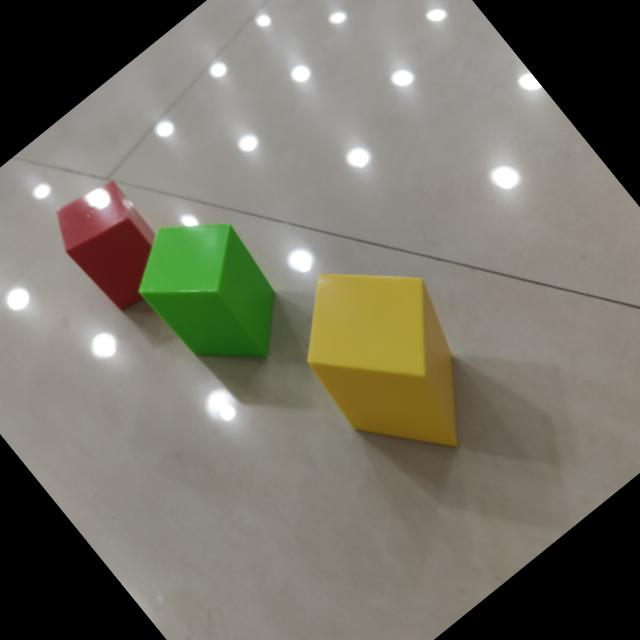green: (139, 223, 277, 362)
red: (58, 181, 156, 312)
yellow: (308, 273, 460, 448)
